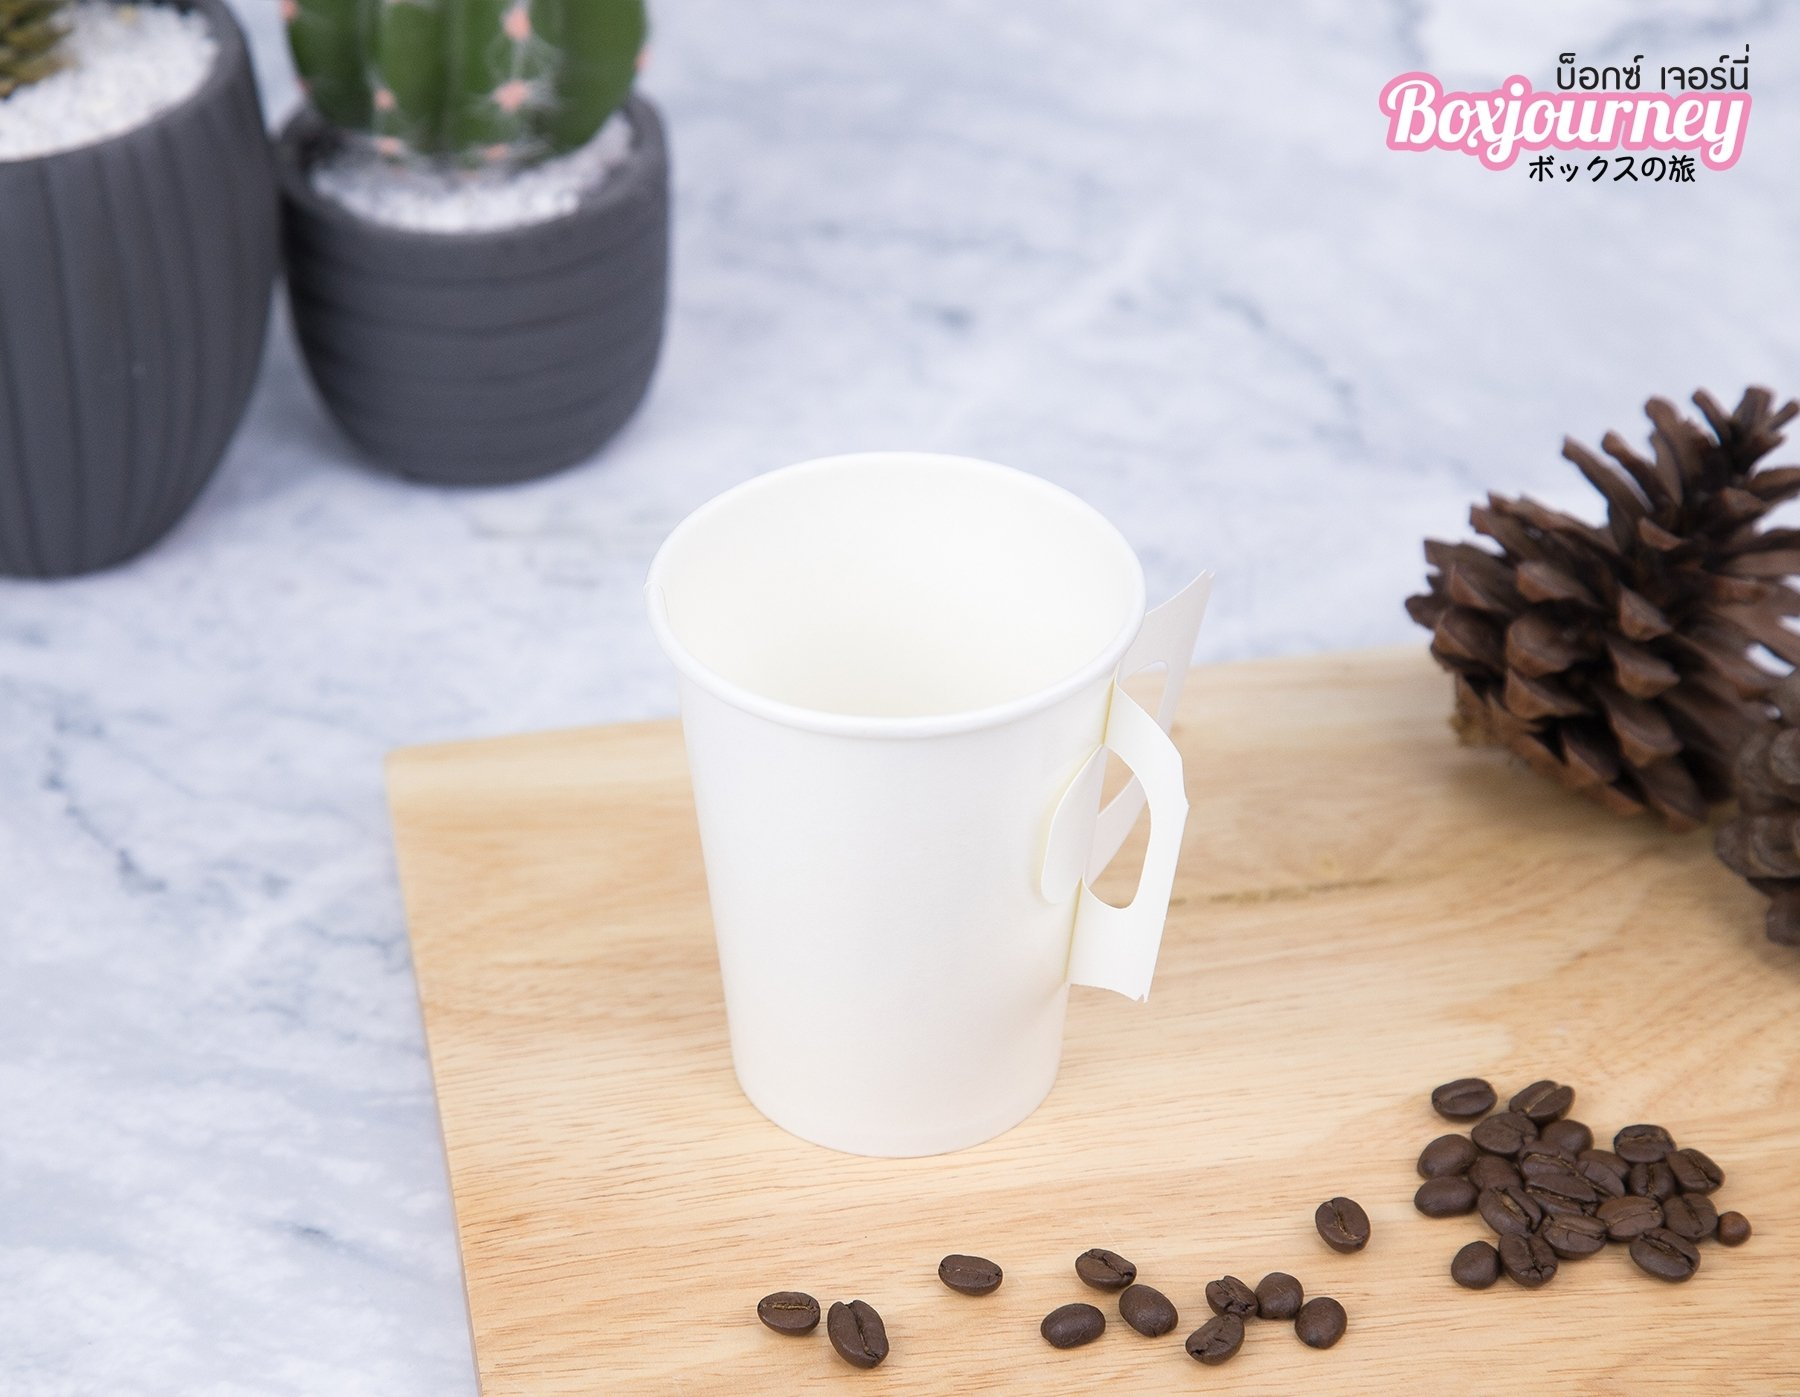PaperCup: (637, 440, 1189, 1166)
